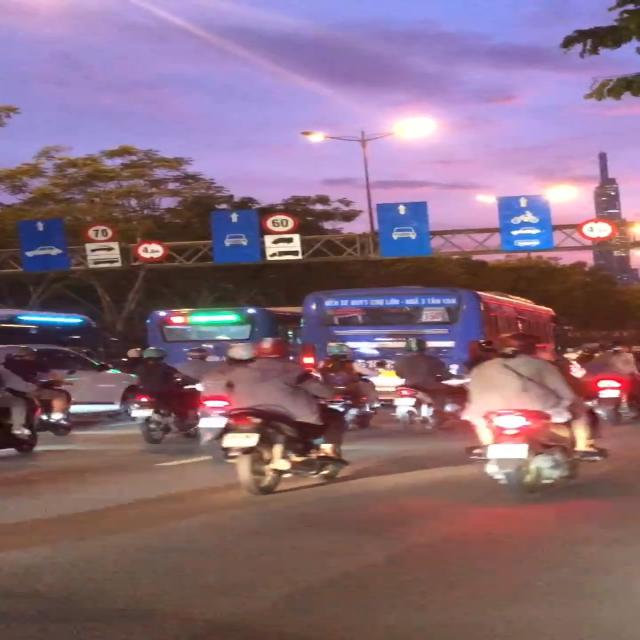Bien bao toc do toi da cho phep: (258, 210, 300, 235), (79, 223, 119, 245)
